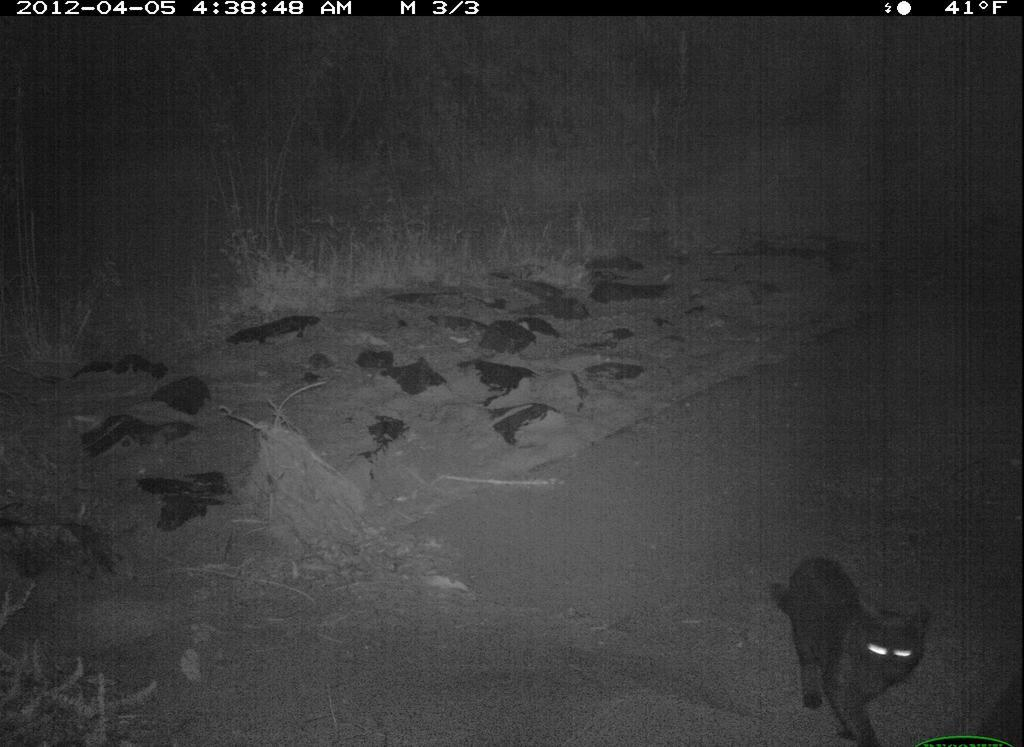cat: (756, 550, 941, 744)
